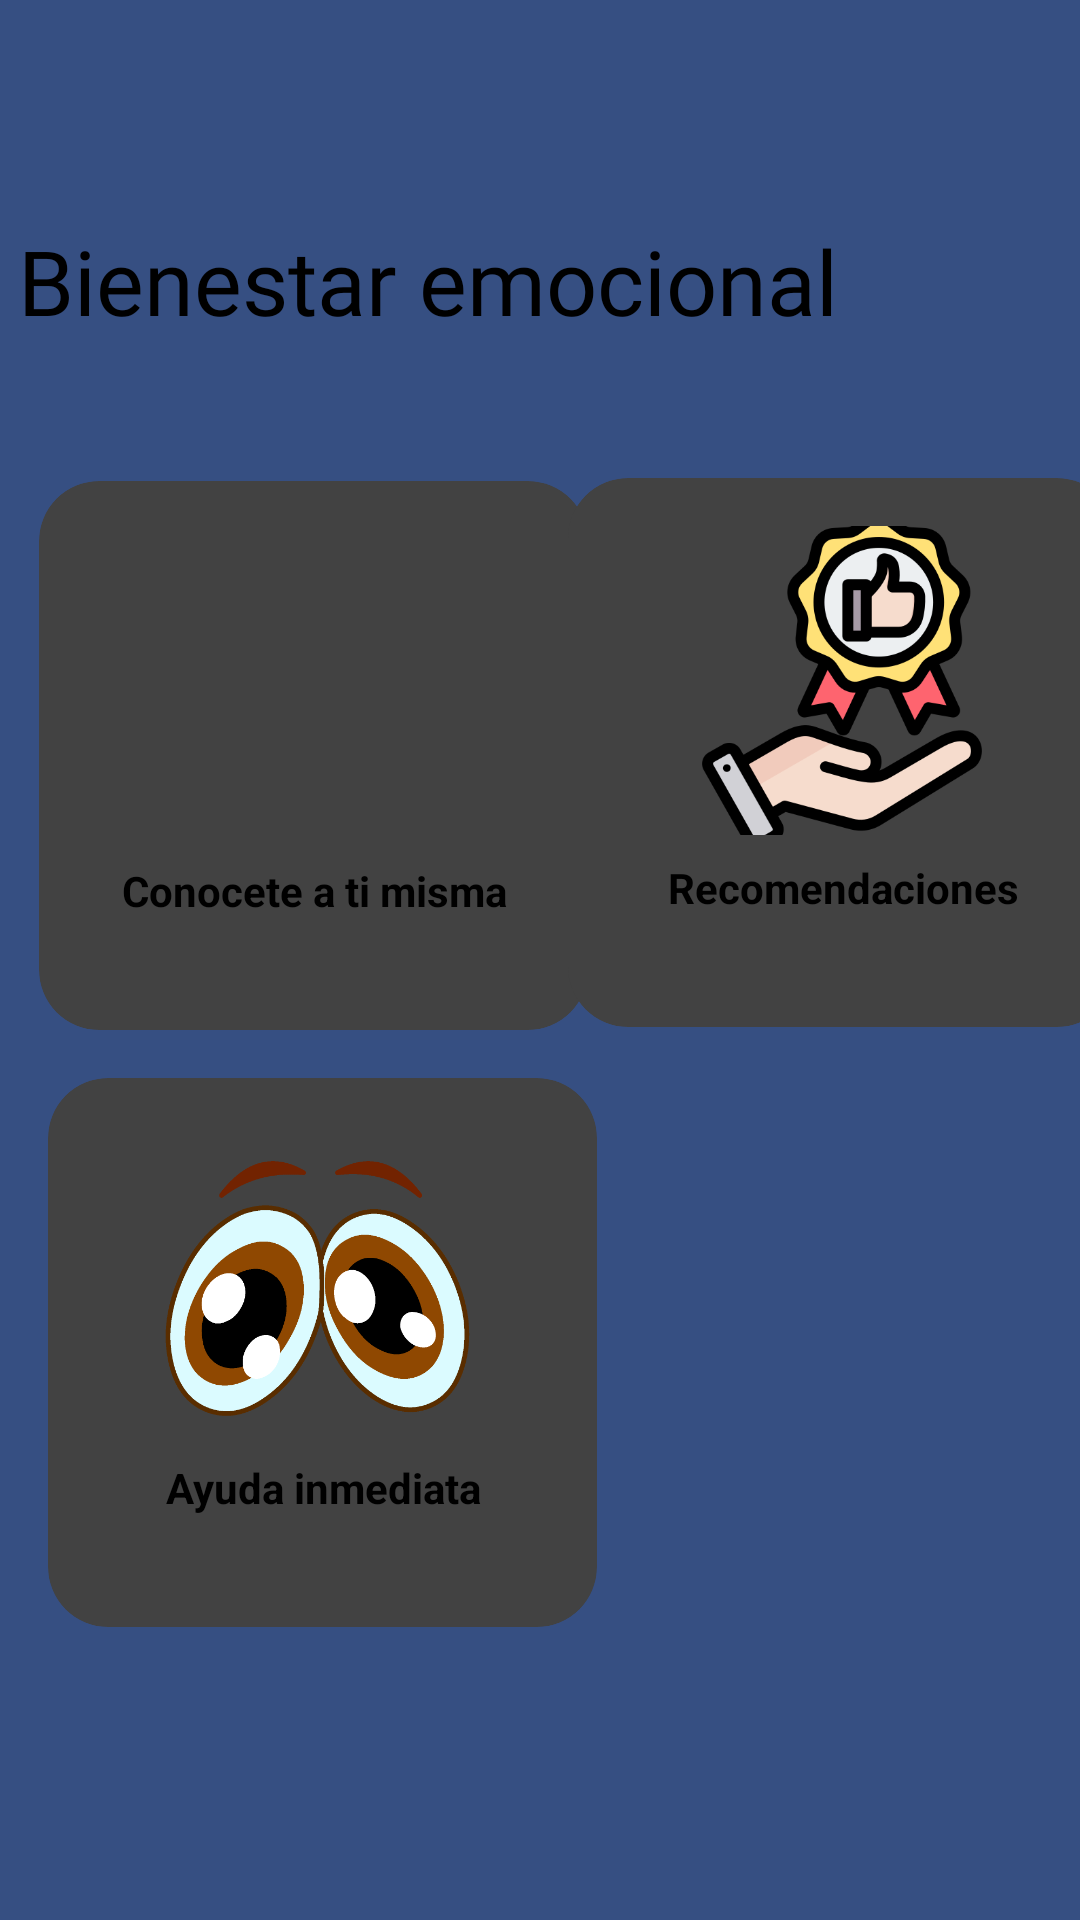

Icon click points for this 1080*1920 phone screenshot, format point (x, y):
medalla: point (842, 680)
ojos: point (317, 1288)
